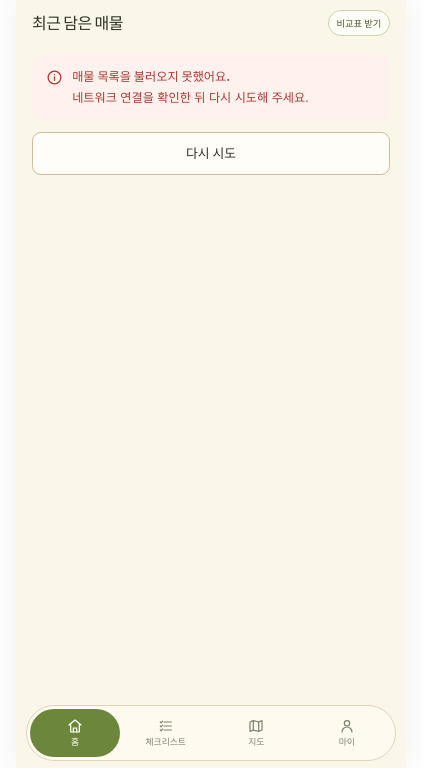
Test: FE-2 매물 목록 › 최초 목록 실패 후 재시도할 수 있다
Expected: the text "매물 목록을 불러오지 못했어요." is shown, [72,69,230,84]
Click the button "다시 시도". click: click(211, 154)
box: [32,132,390,175]
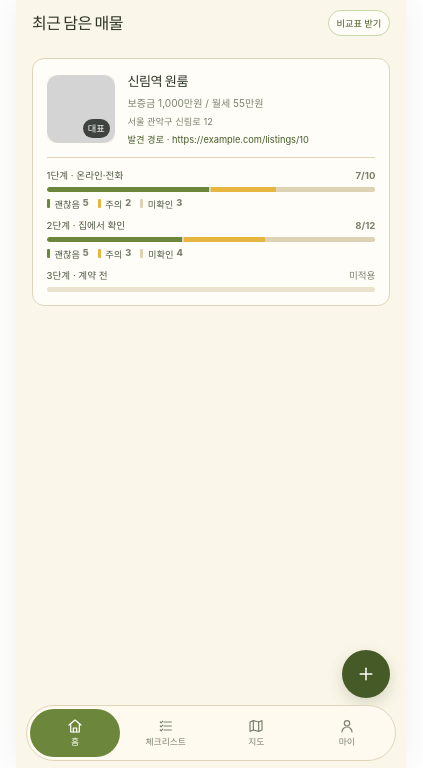
Expected: the link "신림역 원룸" is shown, [32,58,390,306]
